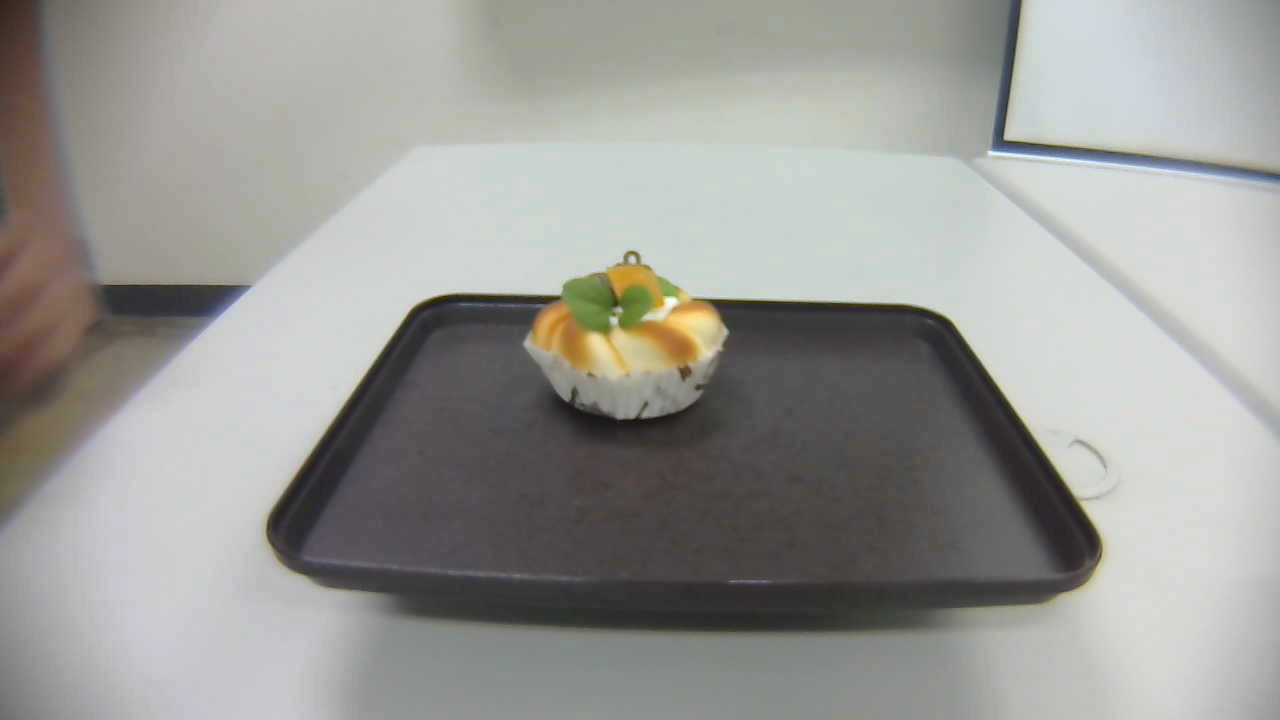fruit tart: (523, 251, 730, 419)
